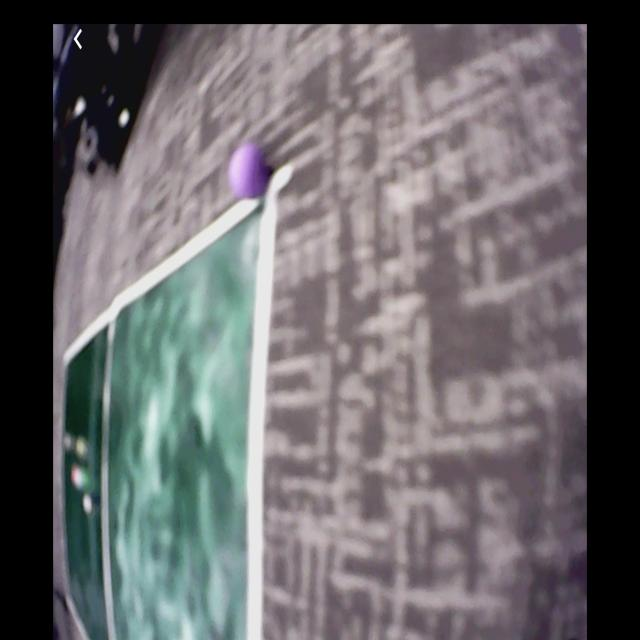ball: (228, 147, 270, 200)
